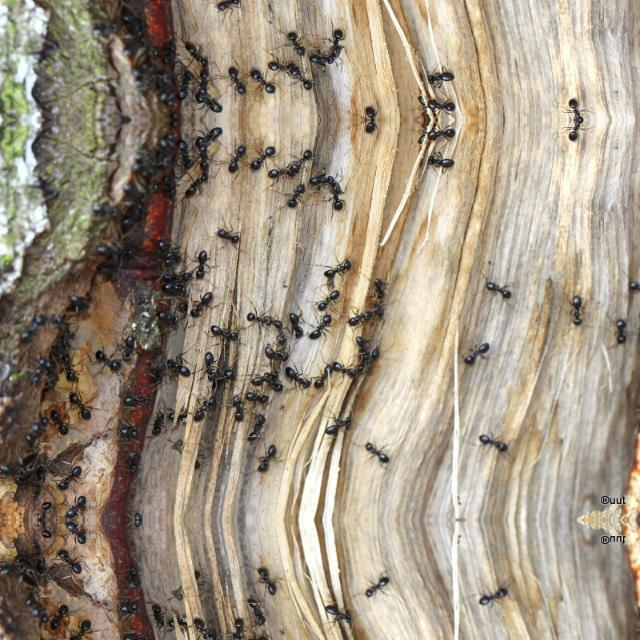Lasius: (362, 432, 403, 470), (362, 569, 403, 607), (480, 272, 520, 308), (185, 283, 219, 325), (476, 422, 518, 456), (476, 583, 518, 617), (55, 540, 87, 584), (16, 304, 49, 346), (55, 456, 87, 498), (550, 119, 590, 149), (281, 178, 311, 218), (550, 89, 590, 119), (281, 20, 311, 60), (562, 292, 590, 334), (210, 214, 240, 252), (68, 386, 96, 422), (464, 337, 496, 367), (252, 443, 284, 473), (193, 394, 225, 424), (320, 608, 360, 632), (252, 566, 284, 596), (45, 606, 77, 636), (310, 355, 336, 391), (45, 403, 77, 432), (89, 343, 119, 373), (320, 408, 360, 430), (306, 318, 342, 342), (124, 451, 150, 484), (284, 360, 310, 392), (193, 614, 225, 640), (124, 556, 150, 588), (253, 143, 277, 177), (253, 61, 277, 95), (414, 152, 450, 174), (238, 307, 274, 329), (61, 495, 94, 519), (414, 64, 450, 86), (61, 520, 94, 544), (248, 413, 276, 441), (22, 420, 50, 448), (248, 598, 276, 626), (22, 591, 50, 619), (27, 354, 46, 392), (28, 41, 66, 60), (60, 346, 78, 386), (191, 120, 223, 142), (191, 96, 223, 118), (28, 178, 66, 196), (210, 0, 238, 24), (68, 616, 96, 640), (210, 318, 237, 342), (230, 390, 248, 426), (230, 139, 250, 171), (362, 345, 382, 377), (146, 405, 166, 437), (119, 326, 139, 358), (230, 67, 250, 99), (146, 602, 166, 634), (242, 384, 268, 408), (186, 168, 208, 196), (212, 365, 240, 387), (70, 286, 92, 314), (169, 353, 191, 381), (186, 42, 208, 70), (426, 120, 456, 140), (323, 255, 353, 275), (260, 342, 288, 363), (155, 236, 179, 260), (312, 288, 338, 310), (254, 368, 280, 390), (426, 99, 456, 118), (192, 247, 210, 277), (272, 312, 290, 342), (607, 314, 623, 346), (292, 149, 316, 169), (180, 136, 196, 166), (290, 308, 306, 338), (348, 302, 368, 326), (34, 500, 58, 520), (292, 69, 316, 89), (116, 600, 140, 620), (230, 612, 247, 640), (267, 160, 293, 178), (158, 302, 176, 328), (267, 60, 293, 78), (180, 72, 196, 101), (116, 419, 140, 438), (375, 272, 391, 300), (200, 350, 216, 378), (159, 265, 191, 279), (313, 168, 335, 188), (336, 358, 358, 378), (128, 388, 150, 408), (313, 50, 335, 70), (354, 119, 381, 135), (326, 186, 344, 210), (354, 103, 381, 119), (326, 28, 344, 52), (34, 520, 58, 538), (160, 281, 184, 297), (192, 144, 210, 164), (192, 74, 210, 94), (356, 330, 366, 364), (240, 630, 268, 640), (128, 630, 150, 640)
